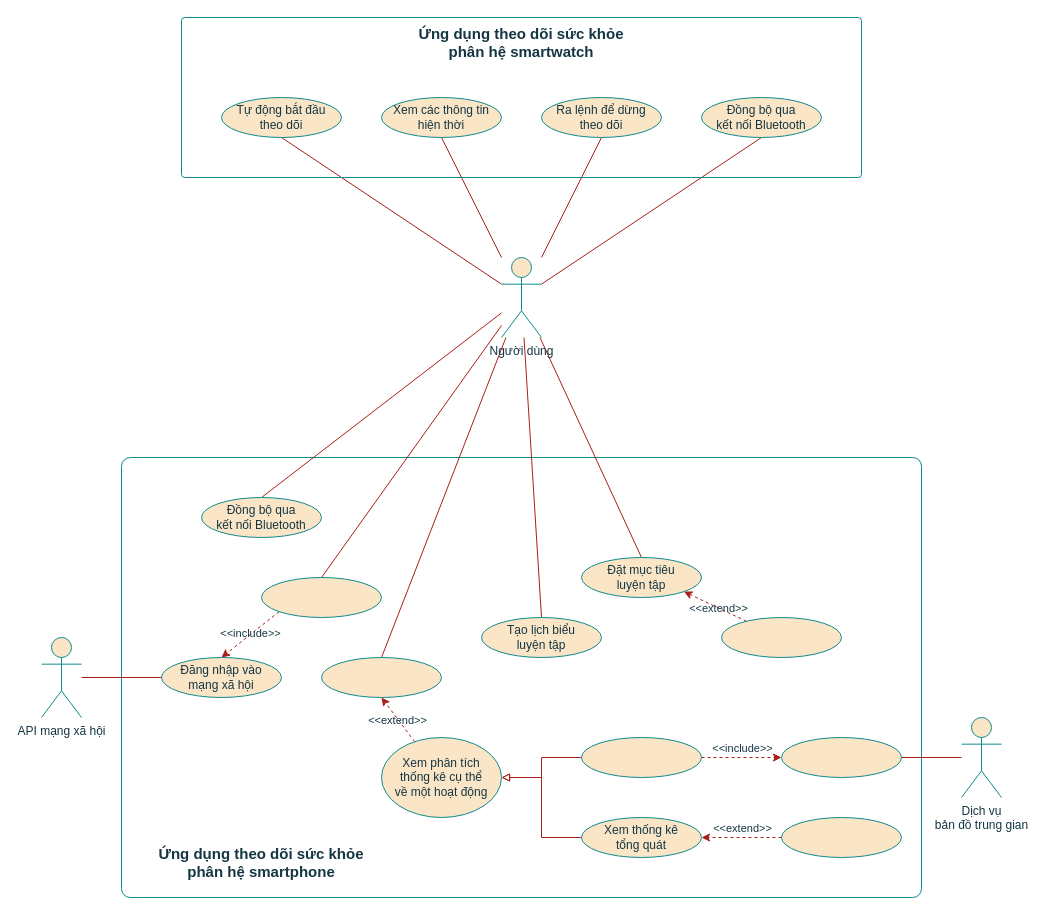
Image size: 1045x915. Some labels were removed from this diagram. Each missing label, with the box of its shape:
Chia sẻ kết quả hoạt động: (260, 576, 382, 618)
Cung cấp bản đồ trực quan: (780, 736, 902, 778)
Xem lộ trình di chuyển: (580, 736, 702, 778)
Xem thông tin tổng hợp: (320, 656, 442, 698)
Xem thống kê chi tiết: (780, 816, 902, 858)
Điều chỉnh lại mục tiêu: (720, 616, 842, 658)
